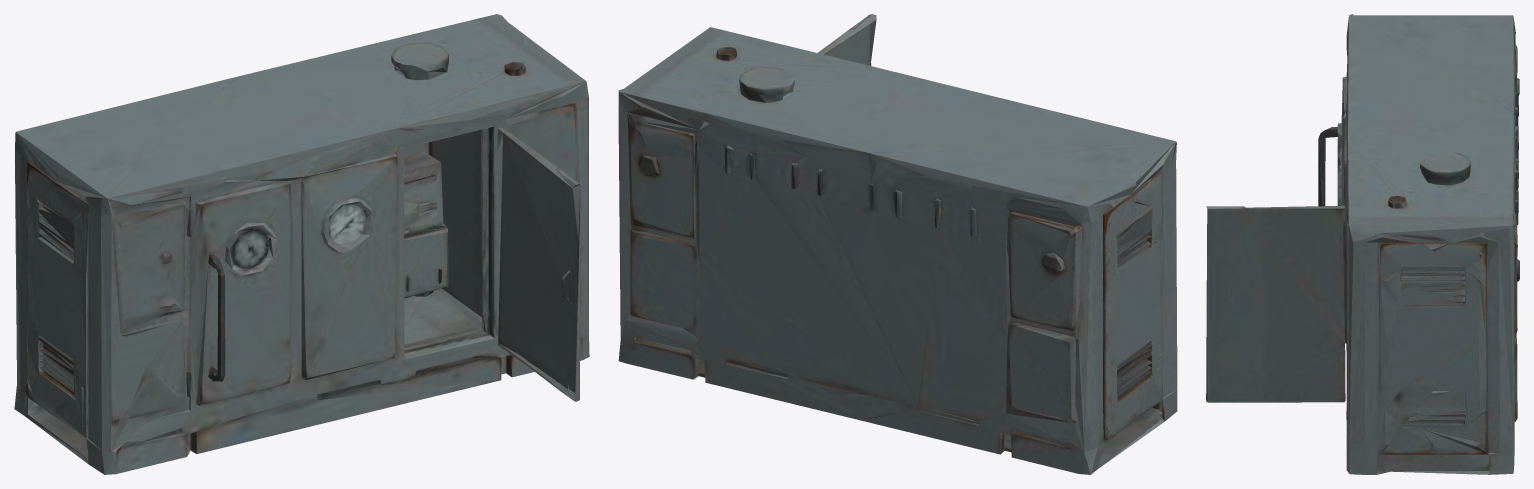
The model's file is panel-energia.glb.
3 views of the same model, side by side, from view 1: azimuth 30°, elevation 25°; view 2: azimuth 150°, elevation 25°; view 3: azimuth 270°, elevation 25° (orthographic). The views are drawn at different scales.
Bounding box in the file's own units: 1.9 × 1.08 × 1.17.
Materials: 1 (1 with a texture image).
